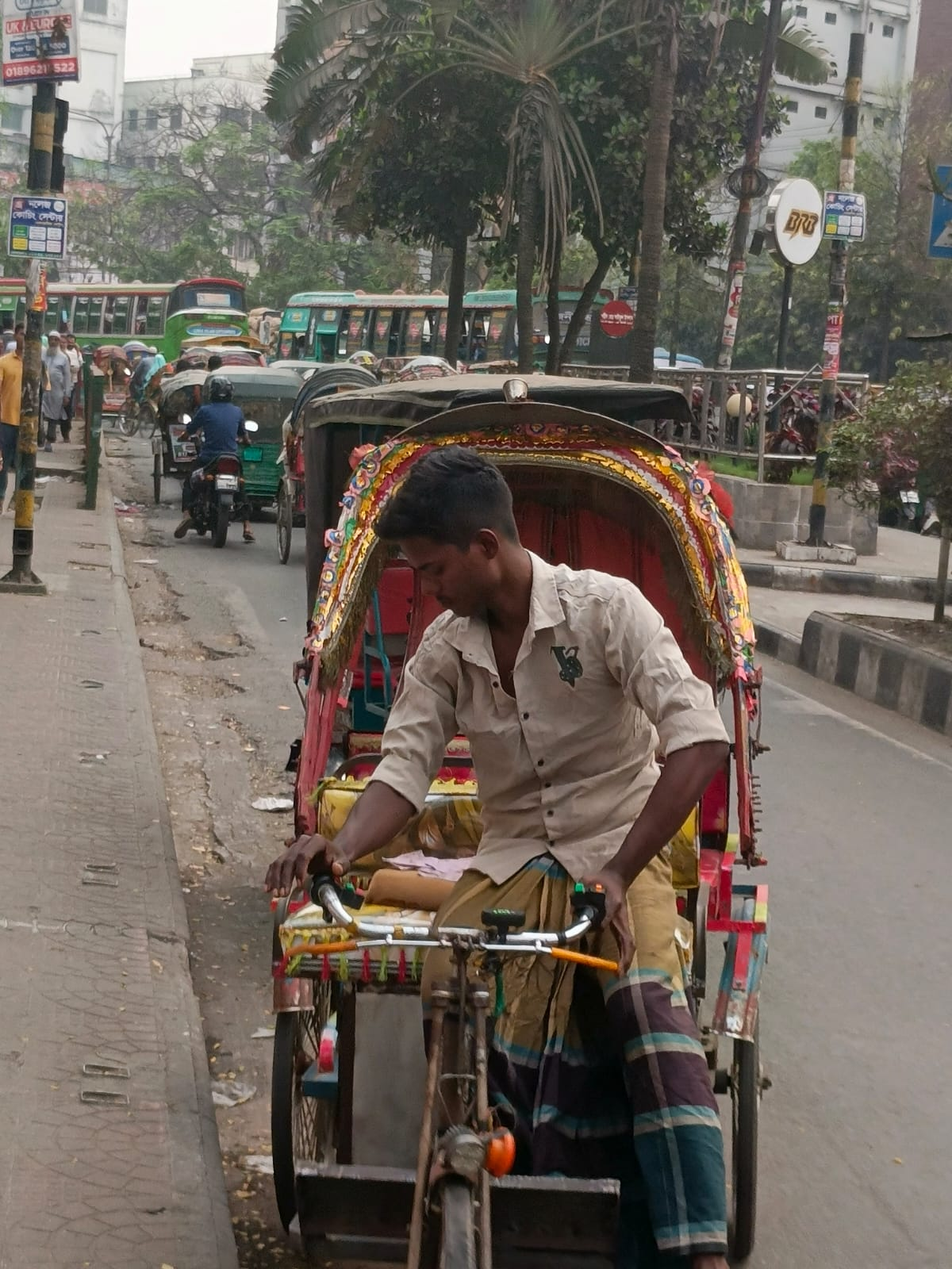Bikes: (174, 370, 260, 553)
auto-ricksaw: (246, 370, 788, 1269)
